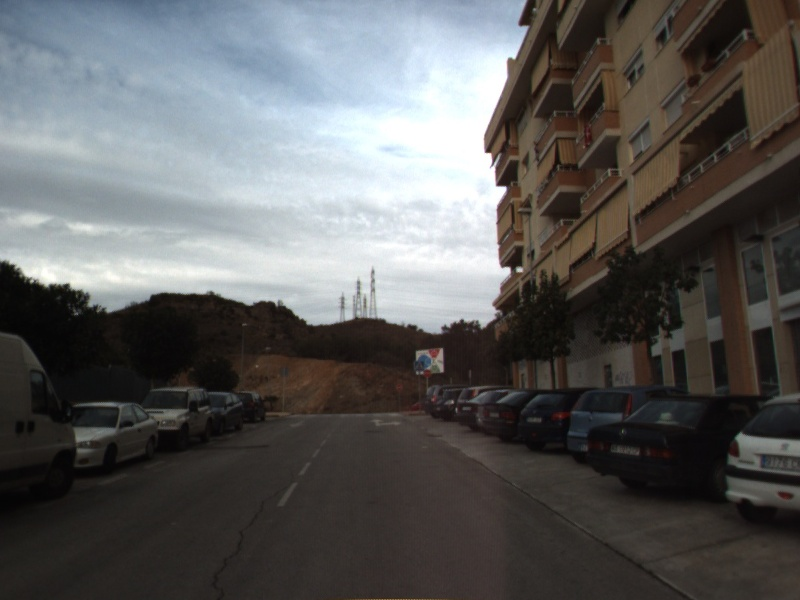STRAIGHT_RIGHT: (367, 417, 404, 428)
